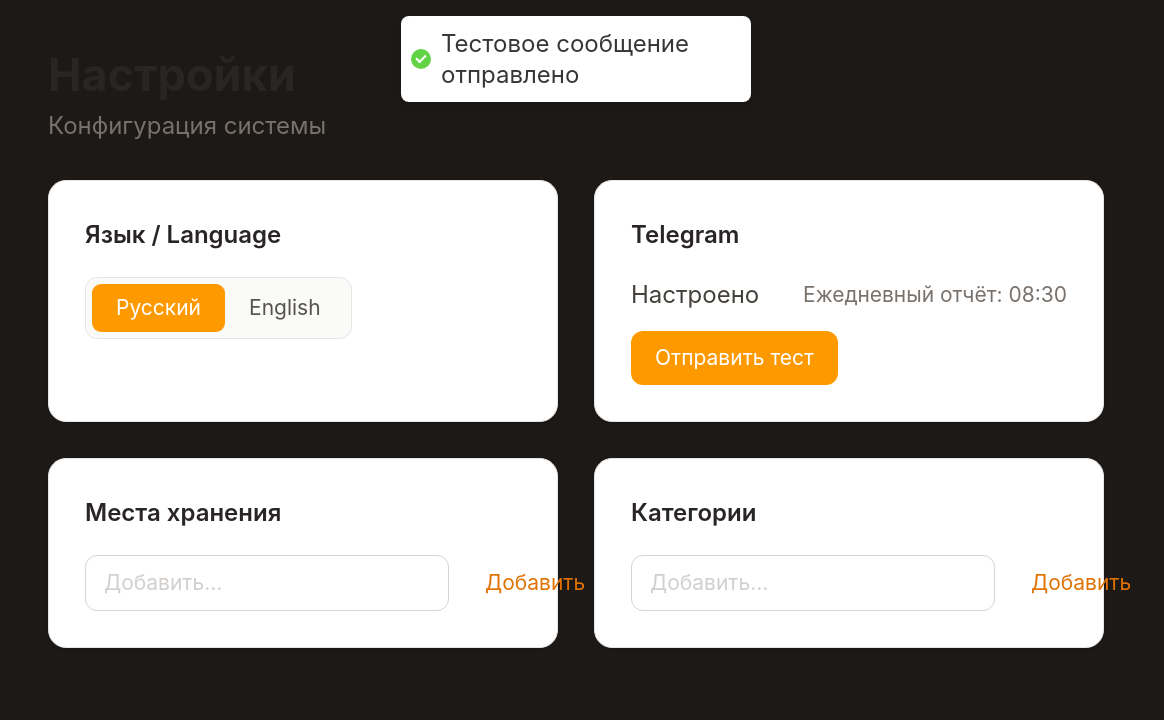
Scenario: SettingsPage › shows an error toast when the test send fails
Expected: the text "Настроено" is shown, left=631, top=277, right=759, bottom=313
Click the button "Отправить тест". click: [734, 358]
box: left=631, top=331, right=838, bottom=385
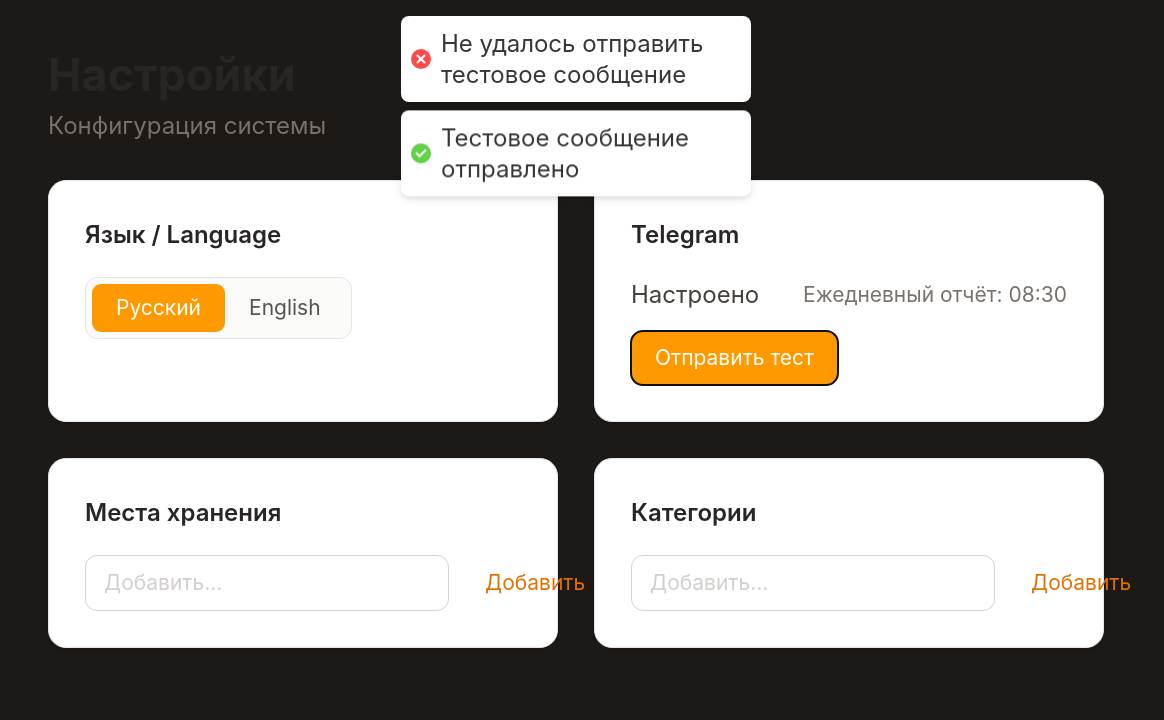
Now the text "Не удалось отправить тестовое сообщение" is shown, box left=441, top=28, right=731, bottom=90
